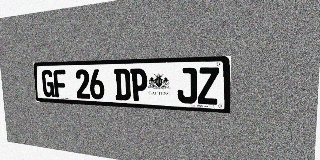2: (75, 69, 90, 99)
6: (89, 69, 105, 99)
D: (114, 69, 131, 101)
F: (53, 70, 67, 98)
G: (41, 70, 55, 97)
J: (177, 67, 197, 104)
P: (130, 68, 148, 101)
Z: (198, 67, 219, 105)
